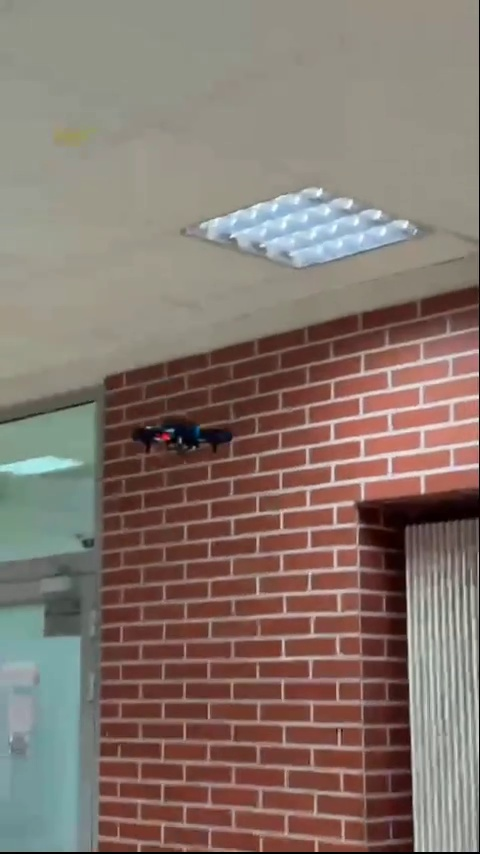drone: (131, 417, 238, 456)
